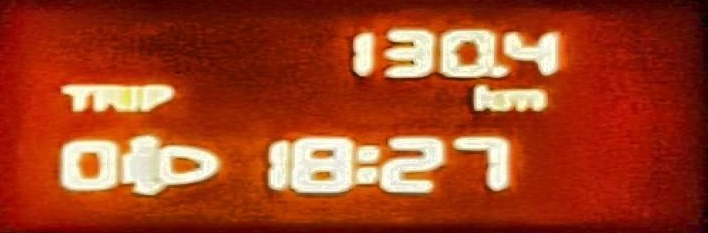-: (488, 64, 509, 77)
0: (55, 138, 118, 190), (436, 27, 495, 78)
1: (265, 138, 290, 191), (350, 31, 373, 76)
2: (377, 135, 445, 192)
3: (380, 28, 435, 77)
4: (498, 30, 559, 75)
7: (451, 134, 510, 190)
8: (290, 135, 353, 192)
X: (351, 144, 380, 185), (58, 83, 94, 112), (501, 87, 546, 110), (90, 83, 125, 112), (138, 82, 172, 111), (471, 83, 501, 110), (124, 84, 139, 113)
